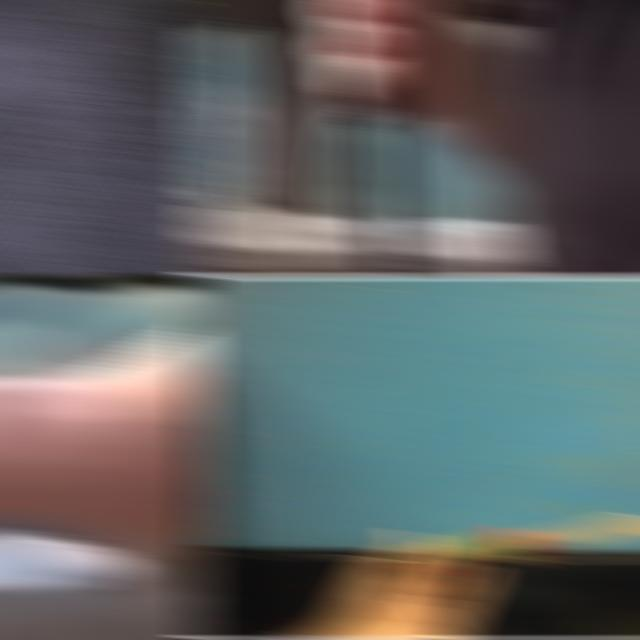Knife: (346, 80, 420, 276), (438, 515, 640, 568), (0, 520, 144, 588)
Knife_Handle: (324, 0, 475, 276), (0, 370, 150, 636)
